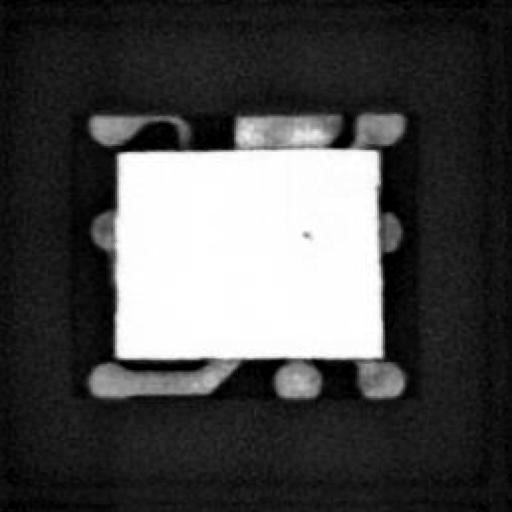DIE_INK: (296, 224, 314, 239)
